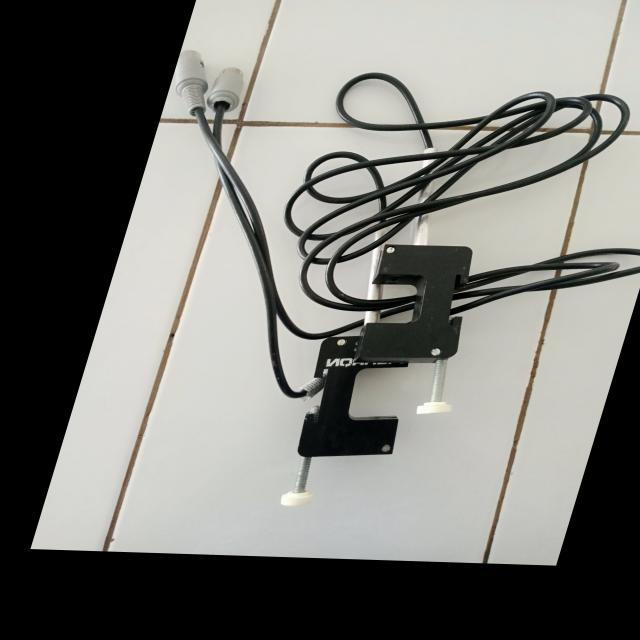Bulb Socket: (70, 32, 640, 434)
